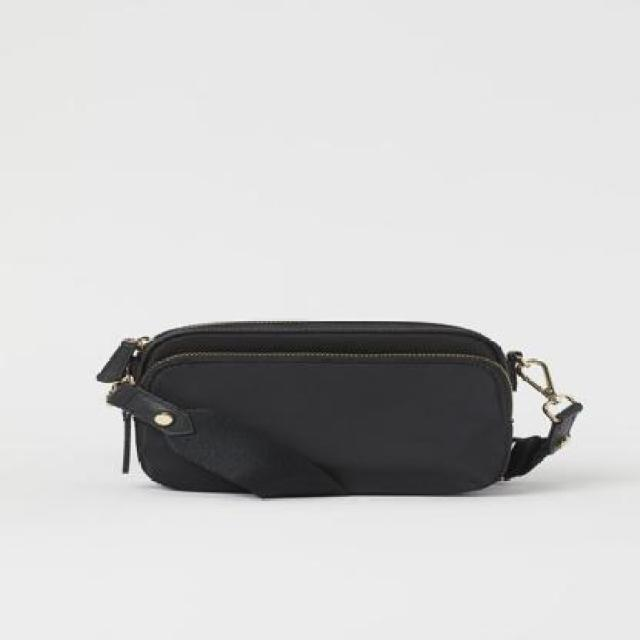not trash: (100, 325, 585, 497)
